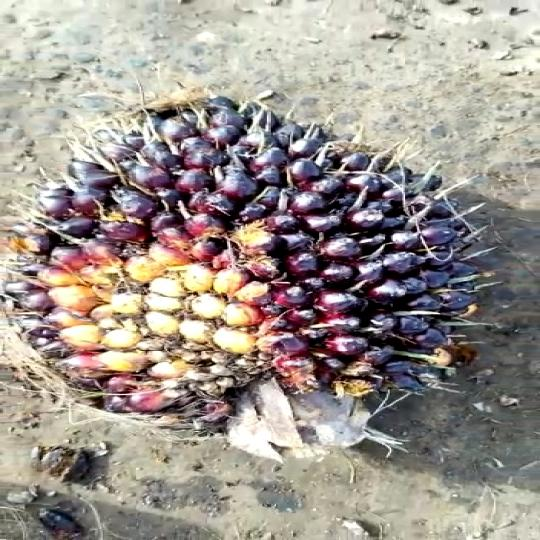mentah: (13, 66, 512, 474)
